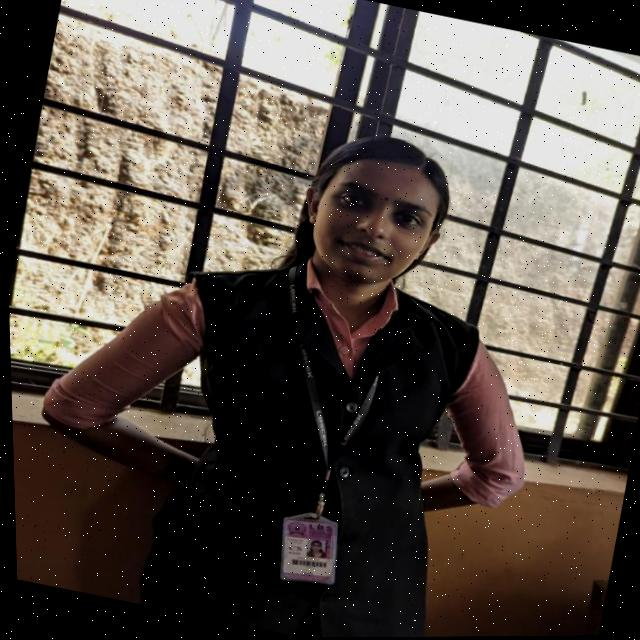id_card: (219, 261, 420, 600)
